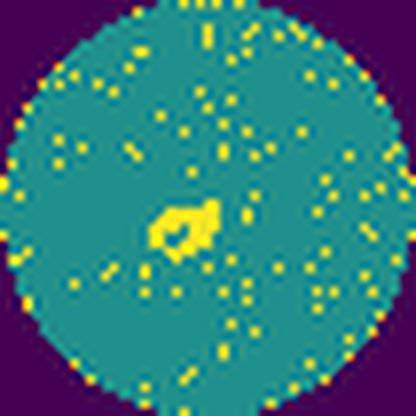Center: (149, 200, 222, 266)
